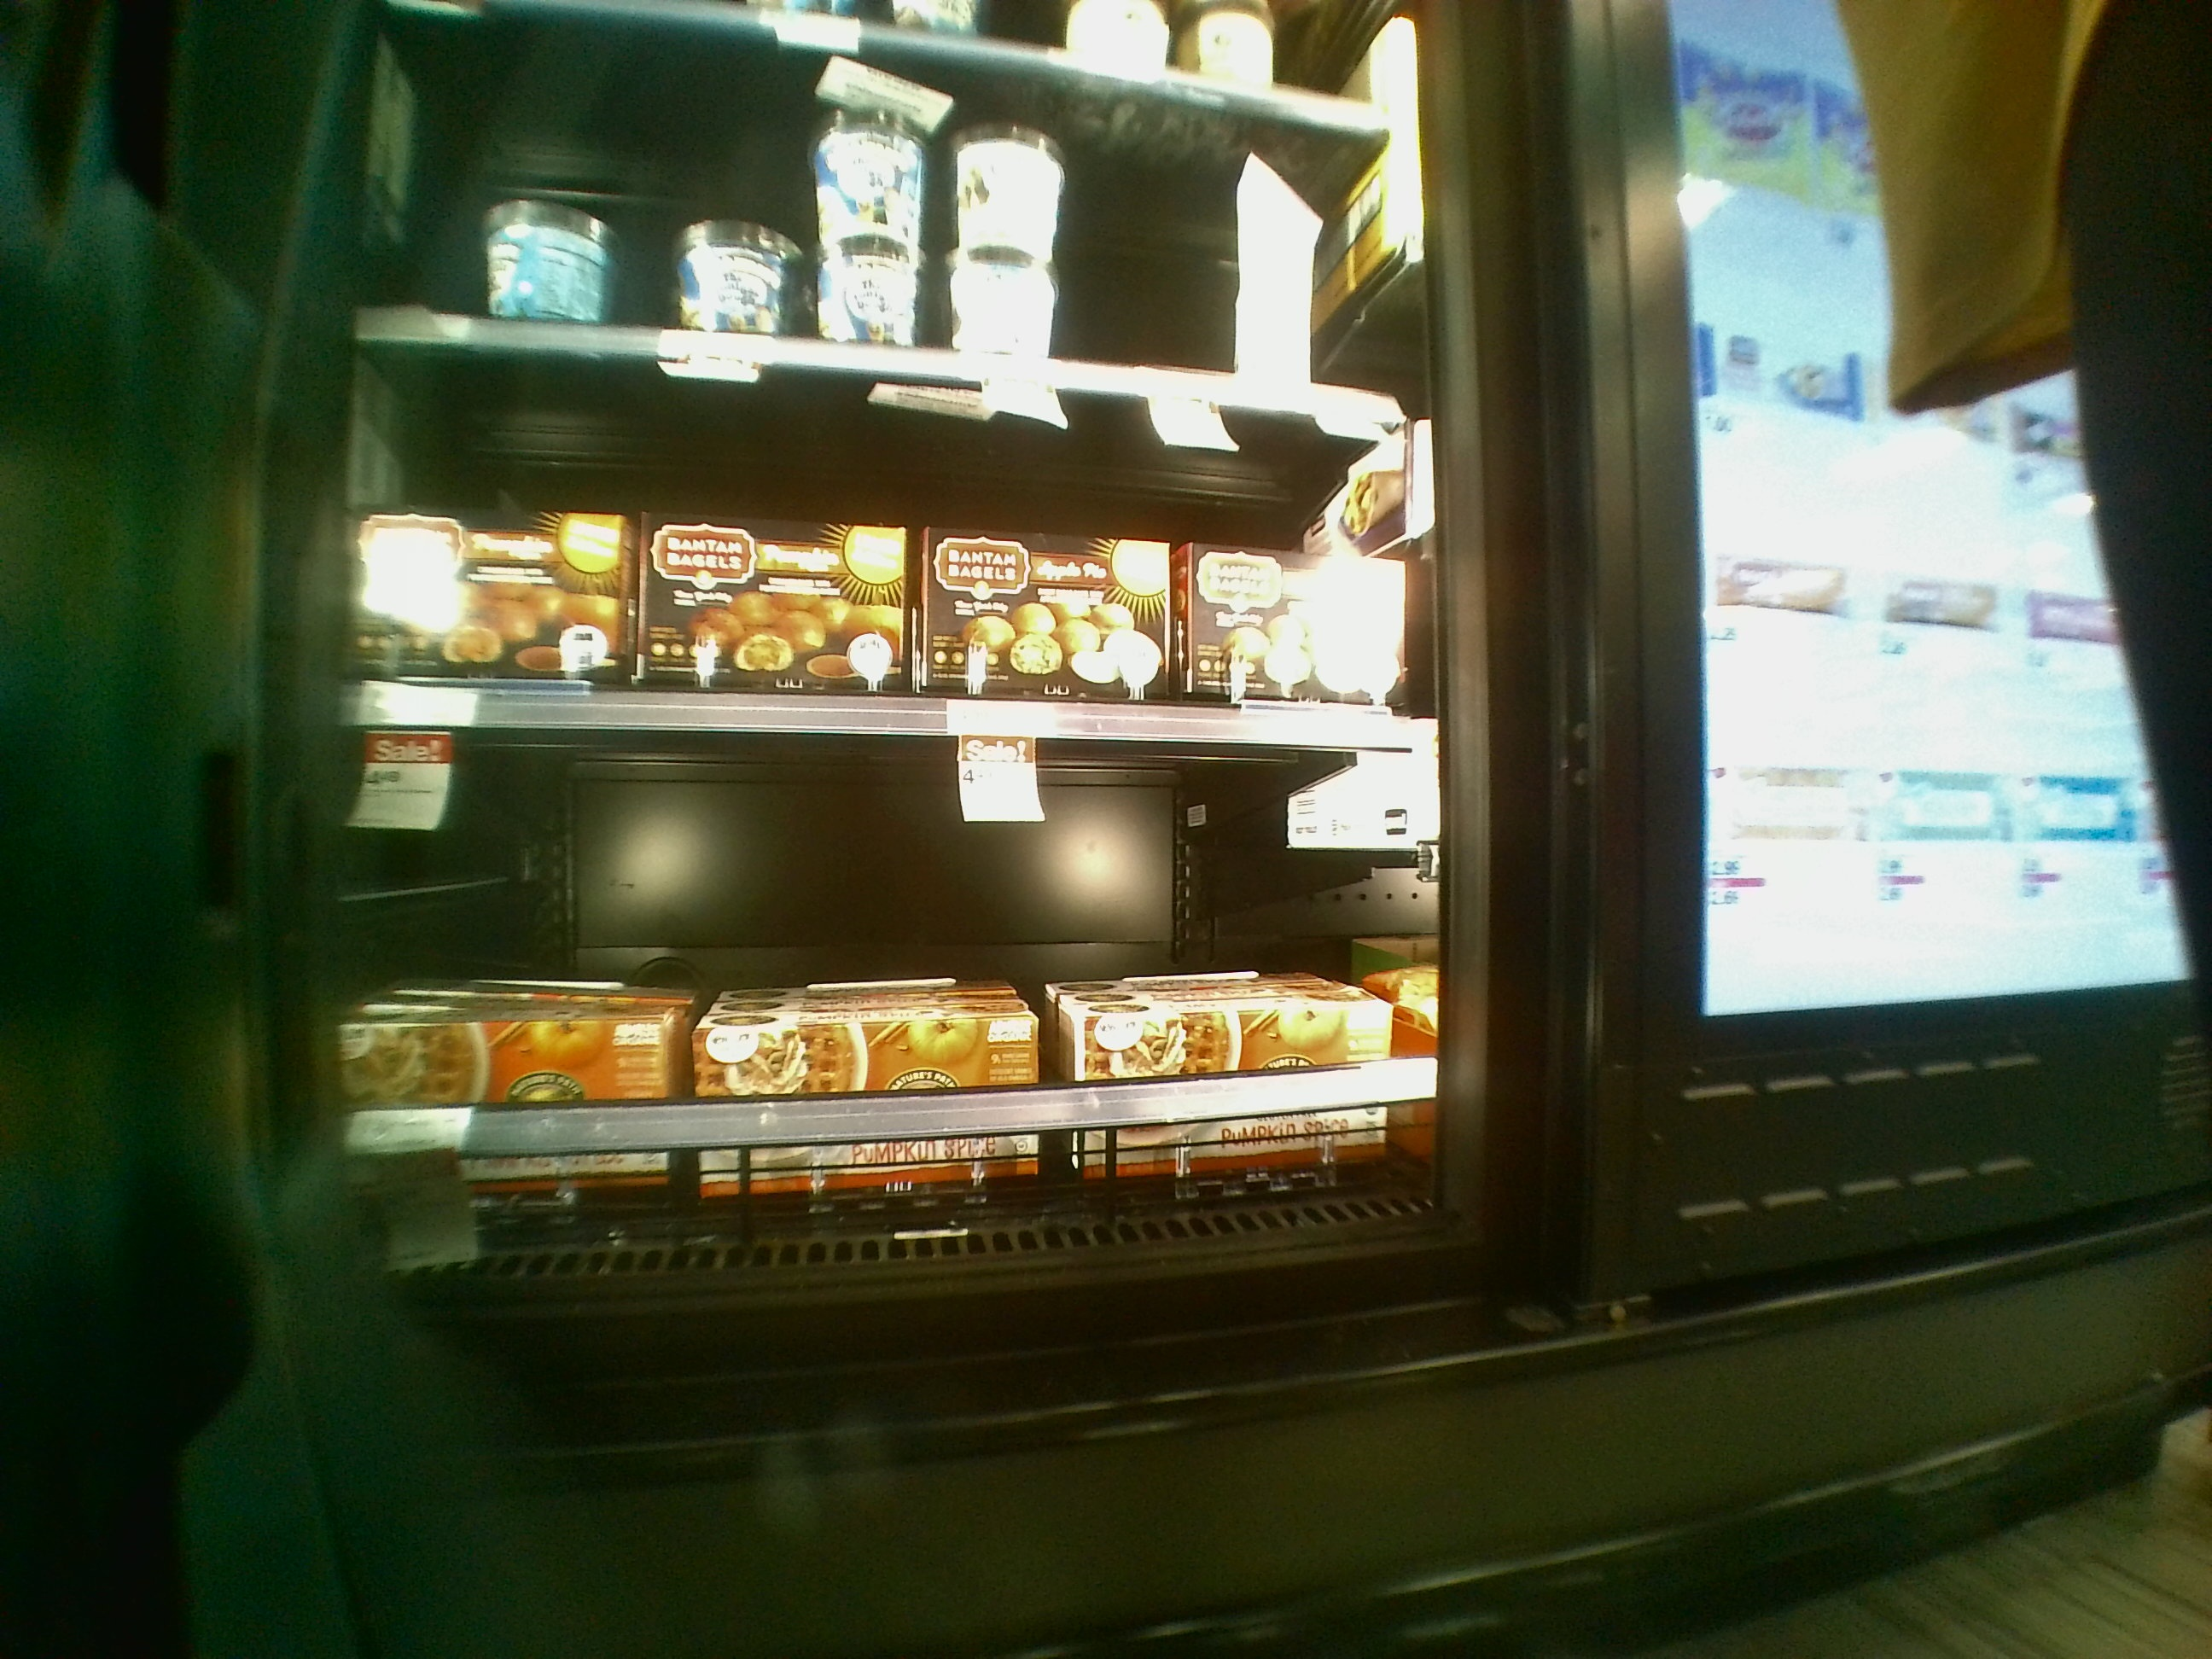shelf: (301, 685, 1465, 1286), (317, 321, 1449, 737)
